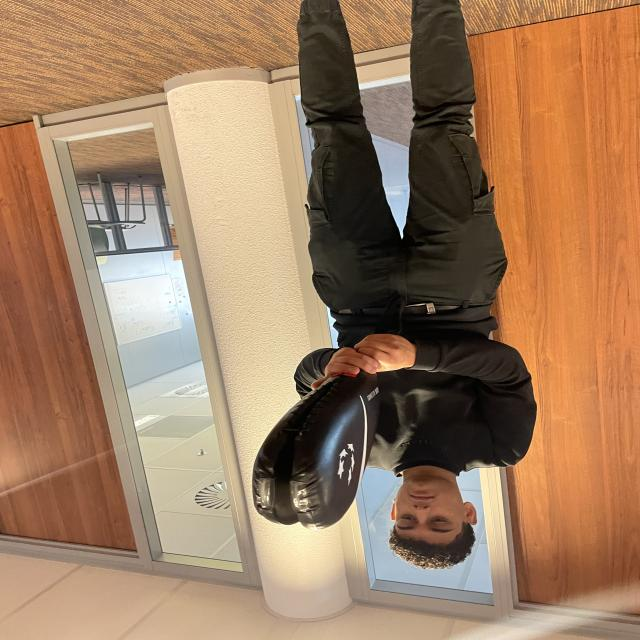paddle: (253, 386, 372, 532)
